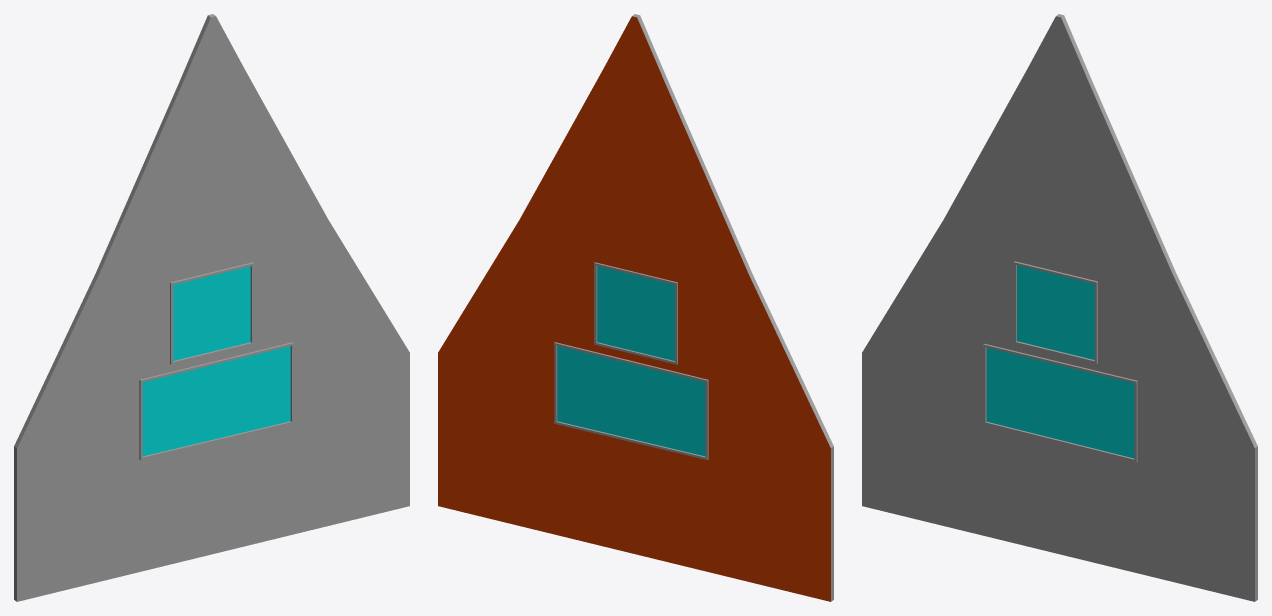
Rendered from SM_WallBack.fbx.
3 renders of one model, left to right at view 1: azimuth 30°, elevation 25°; view 2: azimuth 150°, elevation 25°; view 3: azimuth 330°, elevation 25°, orthographic.
Parts seen in each view (by area): view 1: SM_WallBack; view 2: SM_WallBack; view 3: SM_WallBack.
Part boxes in pixels (box(x1,y1,x2,y2)): SM_WallBack: box(14, 14, 409, 601); SM_WallBack: box(438, 14, 833, 601); SM_WallBack: box(862, 14, 1257, 601).
Bounding box in the file's own units: 1500 × 1960 × 34.72.
